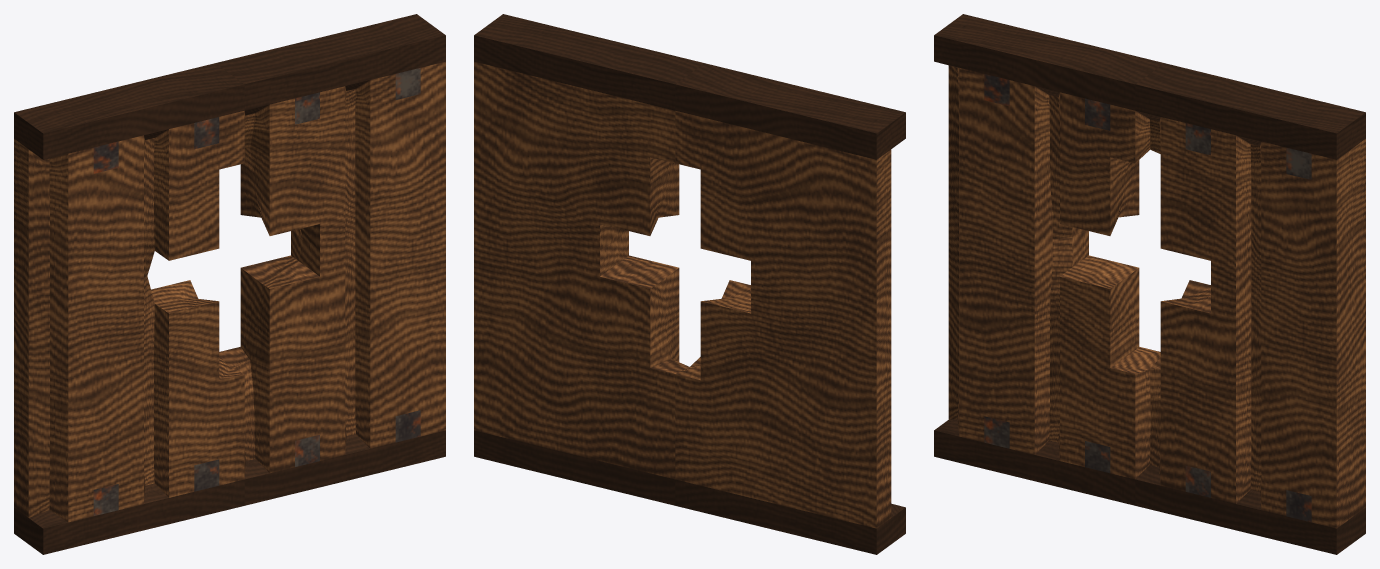
File: platform_parapet.glb
3 views of the same model, side by side, from view 1: azimuth 30°, elevation 25°; view 2: azimuth 150°, elevation 25°; view 3: azimuth 330°, elevation 25° (orthographic).
Parts seen in each view (by area): view 1: crypt_platform_parapet; view 2: crypt_platform_parapet; view 3: crypt_platform_parapet.
Boxes of the visible parts, box(x1,y1,x2,y2) form: crypt_platform_parapet: box(14, 14, 445, 554); crypt_platform_parapet: box(474, 14, 905, 554); crypt_platform_parapet: box(934, 14, 1365, 554).
Bounding box in the file's own units: 1 × 1 × 0.125.
1 material, 1 textured.
